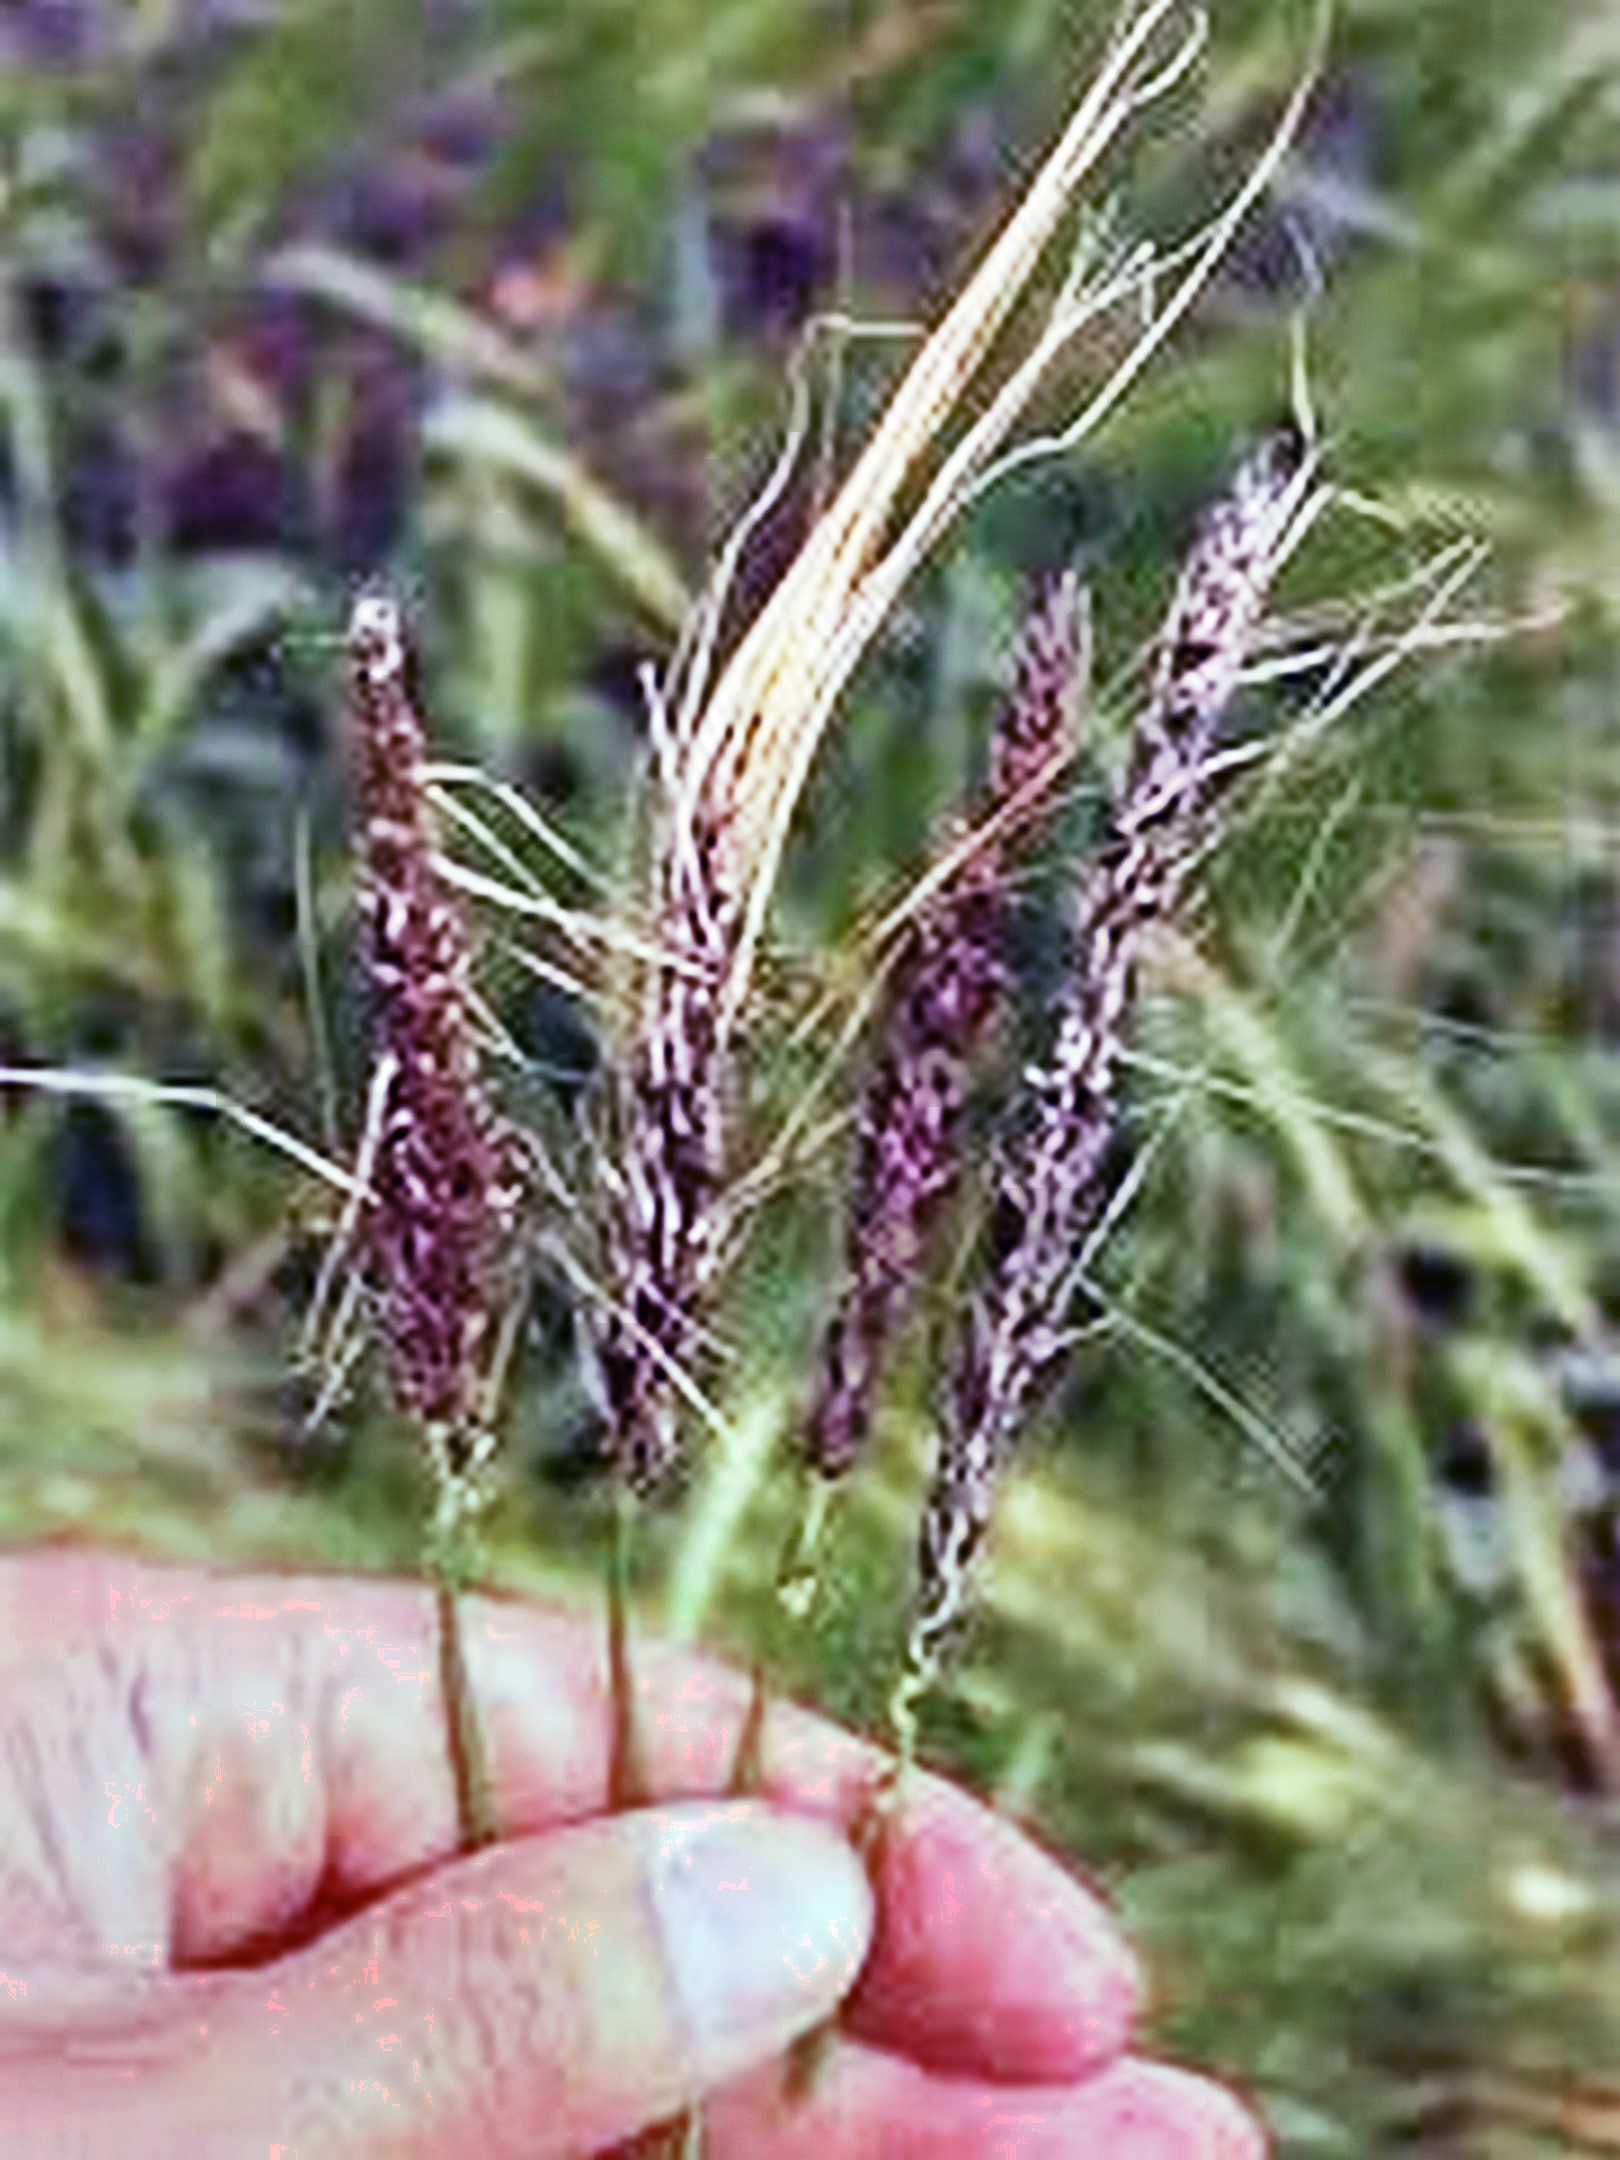Wheat Loose Smut: (248, 536, 1319, 1526)
